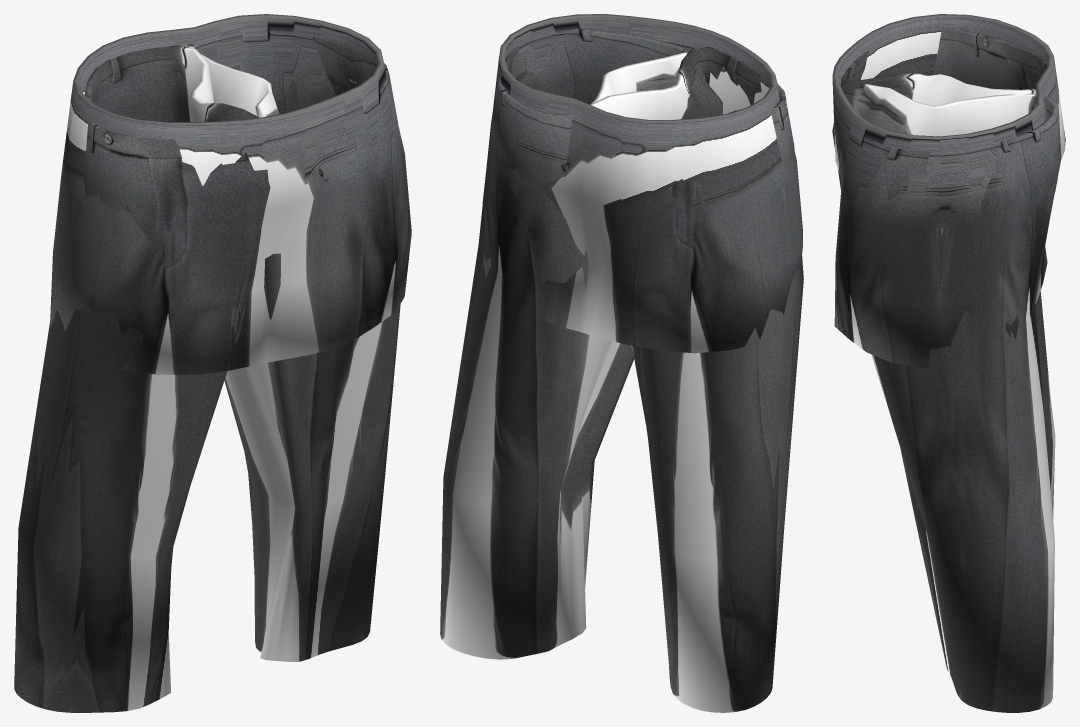
The picture shows the model from 3 angles, left to right: view 1: azimuth 30°, elevation 25°; view 2: azimuth 150°, elevation 25°; view 3: azimuth 270°, elevation 25°; orthographic projection. The views are drawn at different scales.
Parts seen in each view (by area): view 1: garment_leg0; view 2: garment_leg0; view 3: garment_leg0.
Boxes of the visible parts, box(x1,y1,x2,y2) form: garment_leg0: box(14, 14, 411, 712); garment_leg0: box(440, 14, 803, 712); garment_leg0: box(832, 14, 1065, 712).
Bounding box in the file's own units: 0.4492 × 0.7726 × 0.2885.
1 material, 1 textured.
